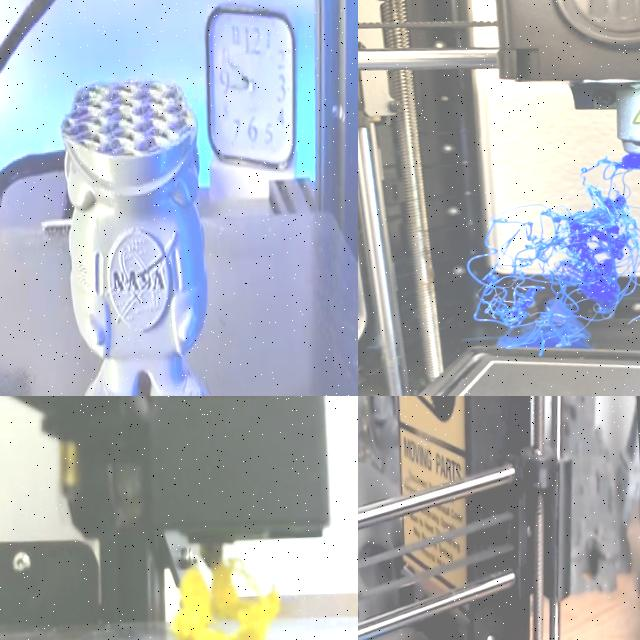spaghetti: (466, 154, 640, 357), (170, 551, 291, 640)
